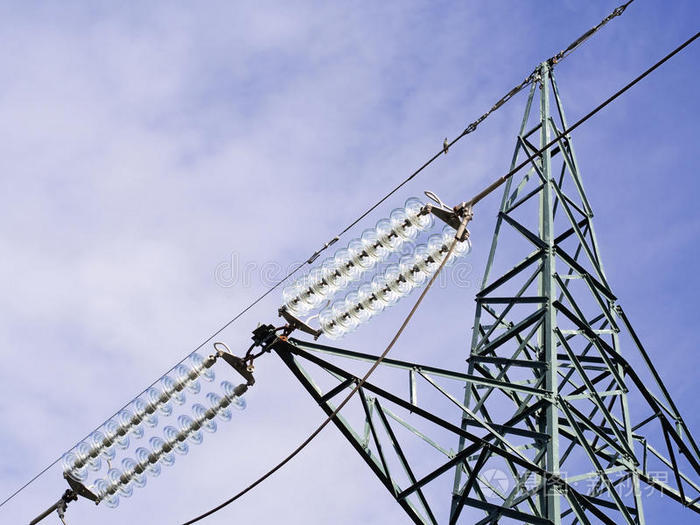insulator: (62, 349, 218, 480), (93, 380, 247, 511), (285, 192, 433, 313), (319, 225, 472, 339)
